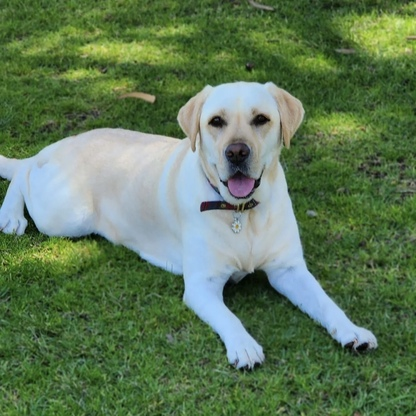labrado: (1, 64, 391, 377)
